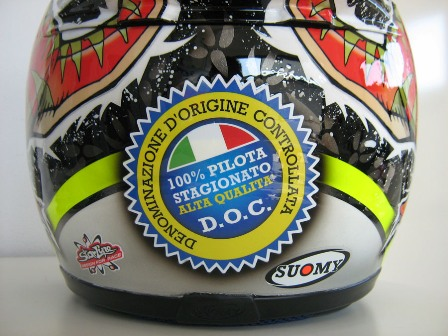helmet: (23, 3, 411, 306)
